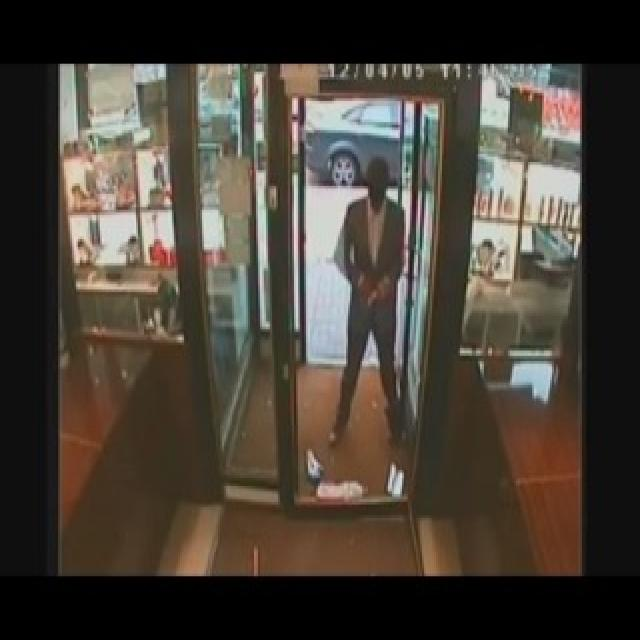thief: (335, 161, 411, 444)
